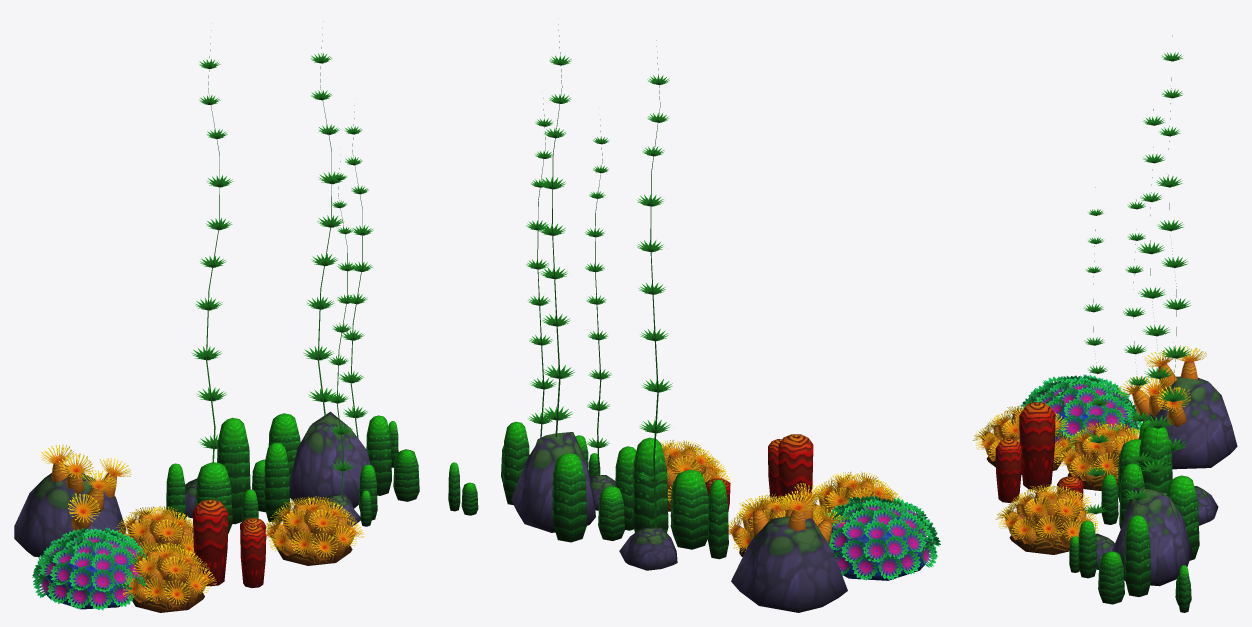
File: CoralSet_09.FBX
3 views of the same model, side by side, from view 1: azimuth 30°, elevation 25°; view 2: azimuth 150°, elevation 25°; view 3: azimuth 270°, elevation 25° (orthographic). The views are drawn at different scales.
Parts seen in each view (by area): view 1: Set_09_Part25 (×2), Set_09, Set_09_Part23, Set_09_Part04, Set_09_Part28, Set_09_Part26, Set_09_Part06, Set_09_Part11, Set_09_Part30, Set_09_Part29, Set_09_Part17, Set_09_Part07 (+10 smaller); view 2: Set_09, Set_09_Part25 (×2), Set_09_Part04, Set_09_Part23, Set_09_Part30, Set_09_Part29, Set_09_Part11, Set_09_Part26, Set_09_Part10, Set_09_Part28, Set_09_Part07, Set_09_Part17 (+2 smaller); view 3: Set_09_Part25 (×2), Set_09, Set_09_Part04, Set_09_Part28, Set_09_Part23, Set_09_Part06, Set_09_Part11, Set_09_Part17, Set_09_Part30, Set_09_Part26, Set_09_Part29, Set_09_Part24 (+13 smaller).
Part boxes in pixels (box(x1,y1,x2,y2)): Set_09_Part25 (×2): box(32, 105, 373, 610); Set_09: box(166, 413, 300, 533); Set_09_Part23: box(289, 411, 370, 508); Set_09_Part04: box(14, 465, 125, 557); Set_09_Part28: box(265, 496, 364, 560); Set_09_Part26: box(122, 543, 216, 607); Set_09_Part06: box(116, 506, 194, 557); Set_09_Part11: box(193, 499, 228, 586); Set_09_Part30: box(191, 30, 233, 461); Set_09_Part29: box(303, 21, 344, 418); Set_09_Part17: box(366, 415, 391, 495); Set_09_Part07: box(326, 161, 356, 497); Set_09: box(552, 437, 728, 559); Set_09_Part25 (×2): box(526, 98, 940, 580); Set_09_Part04: box(731, 516, 847, 612); Set_09_Part23: box(511, 432, 595, 532); Set_09_Part30: box(637, 40, 672, 527); Set_09_Part29: box(538, 24, 574, 437); Set_09_Part11: box(778, 434, 813, 502); Set_09_Part26: box(813, 471, 901, 522); Set_09_Part10: box(619, 527, 677, 570); Set_09_Part28: box(659, 439, 730, 500); Set_09_Part07: box(585, 119, 611, 475); Set_09_Part17: box(503, 421, 529, 504); Set_09_Part25 (×2): box(1020, 199, 1152, 537); Set_09: box(1101, 420, 1199, 560); Set_09_Part04: box(1142, 376, 1237, 469); Set_09_Part28: box(995, 483, 1098, 547); Set_09_Part23: box(1112, 487, 1192, 586); Set_09_Part06: box(1056, 421, 1139, 481); Set_09_Part11: box(1019, 402, 1055, 490); Set_09_Part17: box(1124, 515, 1151, 596); Set_09_Part30: box(1156, 35, 1191, 451); Set_09_Part26: box(972, 405, 1074, 462); Set_09_Part29: box(1137, 109, 1173, 490); Set_09_Part24: box(995, 438, 1021, 502).
Bounding box in the file's own units: 63.2 × 72.95 × 34.93.
